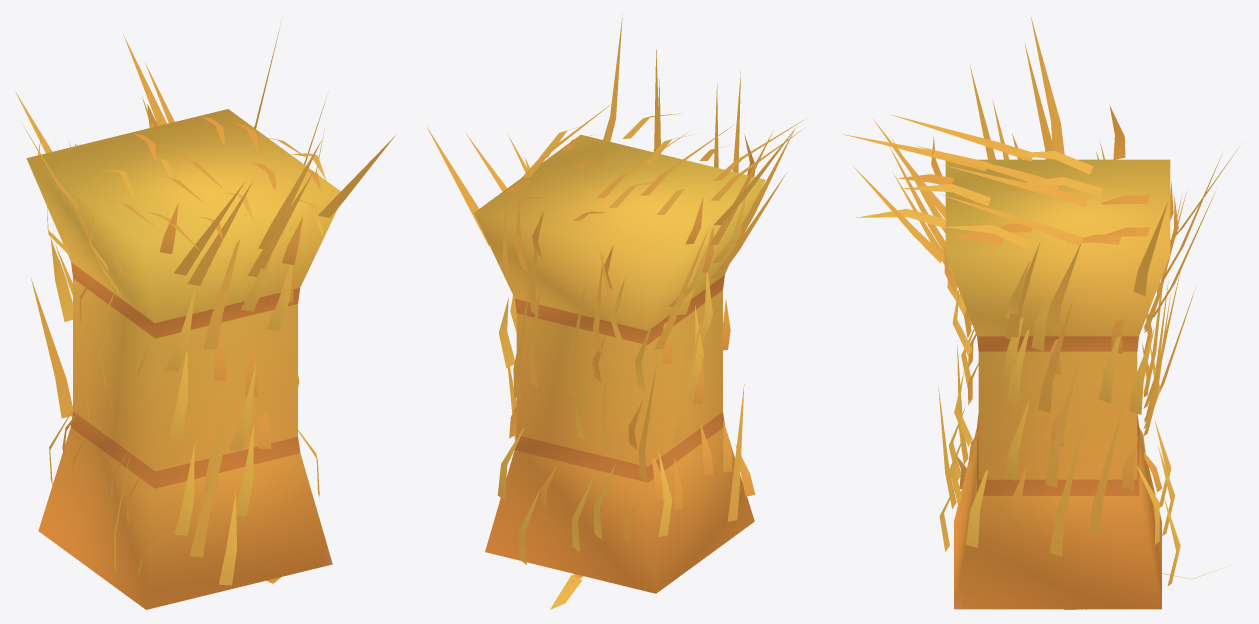
Rendered from haystackcube.glb.
3 views of the same model, side by side, from view 1: azimuth 30°, elevation 25°; view 2: azimuth 150°, elevation 25°; view 3: azimuth 270°, elevation 25° (orthographic). The views are drawn at different scales.
Visible parts, largest first — view 1: haystackcube; view 2: haystackcube; view 3: haystackcube.
Part boxes in pixels (x1,y1,x2,y2): haystackcube: [15, 22, 395, 609]; haystackcube: [426, 15, 806, 609]; haystackcube: [843, 17, 1239, 609].
Size of the model in its own units: 1.38 by 1.97 by 1.49.
1 material, 1 textured.
